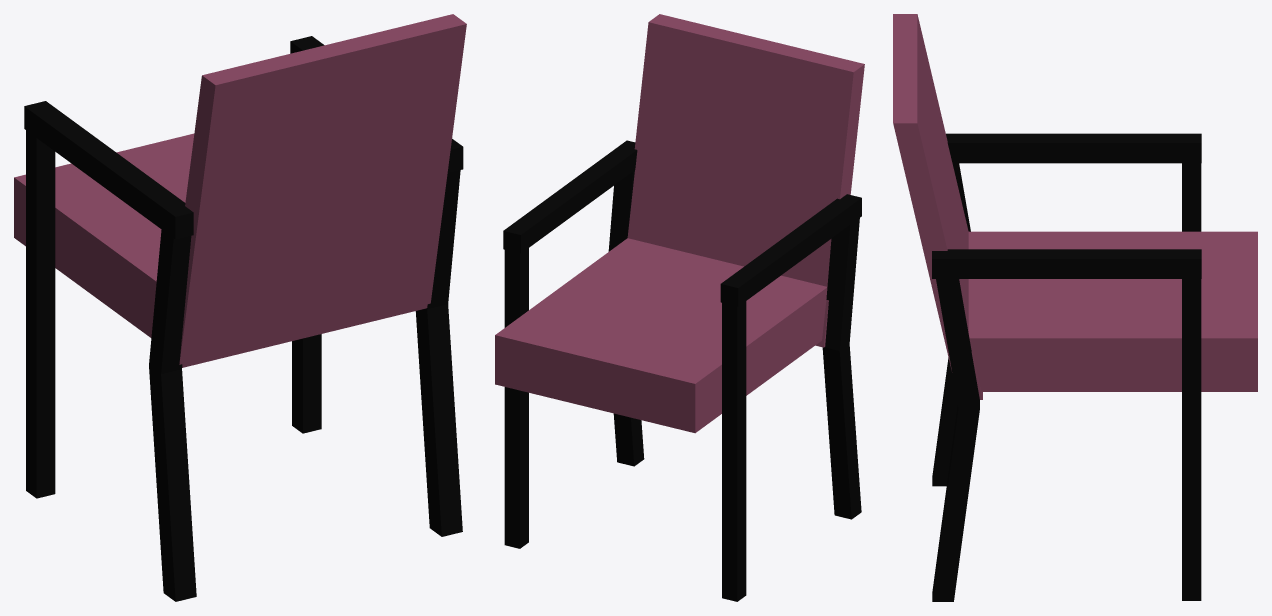
Rendered from chair.glb.
The picture shows the model from 3 angles, left to right: view 1: azimuth 30°, elevation 25°; view 2: azimuth 150°, elevation 25°; view 3: azimuth 270°, elevation 25°; orthographic projection. The views are drawn at different scales.
Parts seen in each view (by area): view 1: 立方体.006; view 2: 立方体.006; view 3: 立方体.006.
Boxes of the visible parts, bbox=[...] form: 立方体.006: bbox=[14, 14, 466, 601]; 立方体.006: bbox=[495, 14, 864, 601]; 立方体.006: bbox=[893, 14, 1257, 601].
Bounding box in the file's own units: 10.11 × 17.73 × 12.45.
